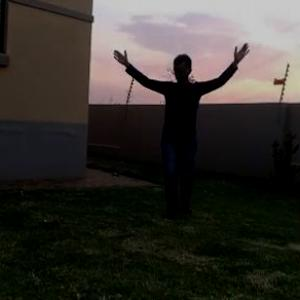takeoff: (110, 42, 254, 211)
